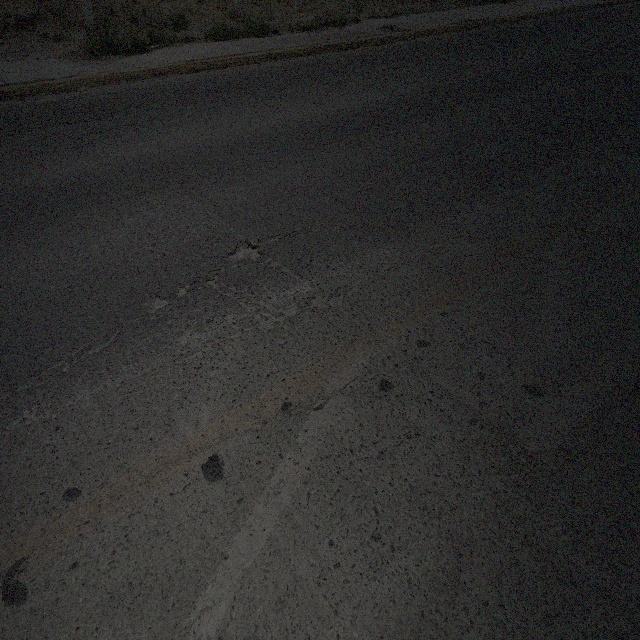pothole: (227, 230, 264, 267), (150, 292, 168, 316), (176, 282, 190, 297)
